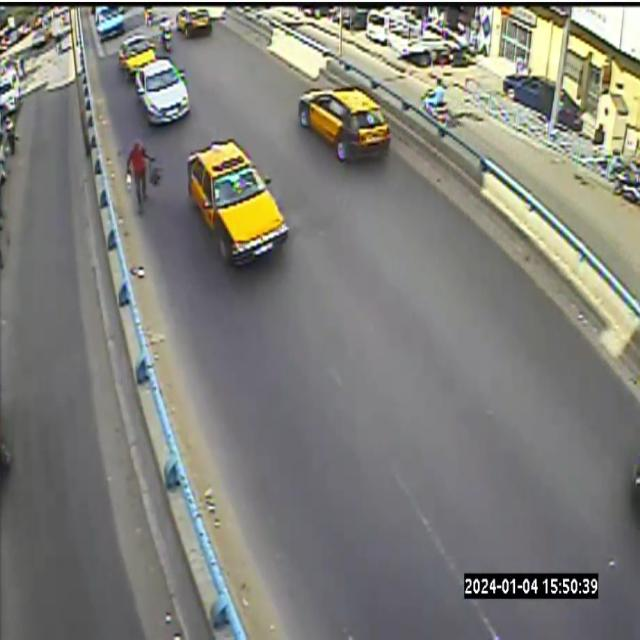car: (187, 138, 289, 265), (298, 87, 390, 162), (136, 58, 190, 123), (119, 35, 155, 77), (176, 7, 211, 38), (95, 6, 124, 41)
